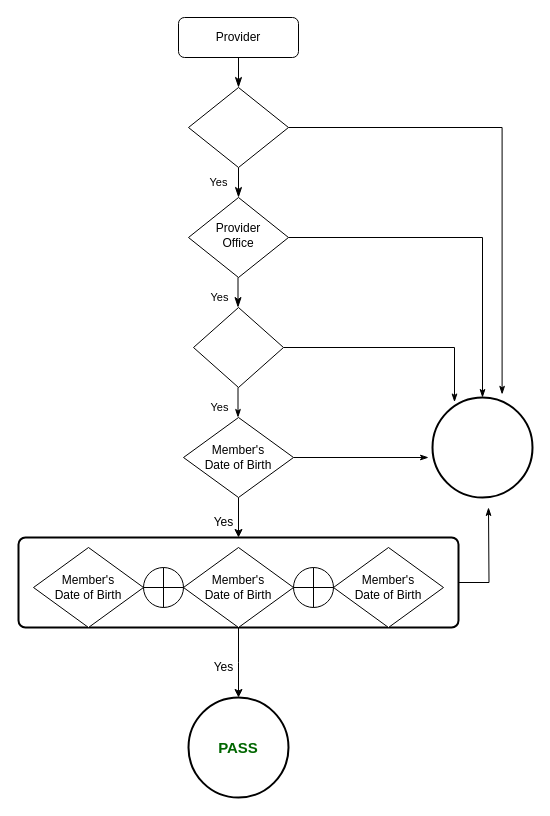
Some shapes in this 550 by 816 pixel diagram are drawn without their labels. Here are the shapes that lost their labels. From the top down, the box of each, then its label:
(188, 86, 288, 168): Provider Name
(192, 306, 284, 388): Member's Name
(431, 396, 533, 498): FAIL
